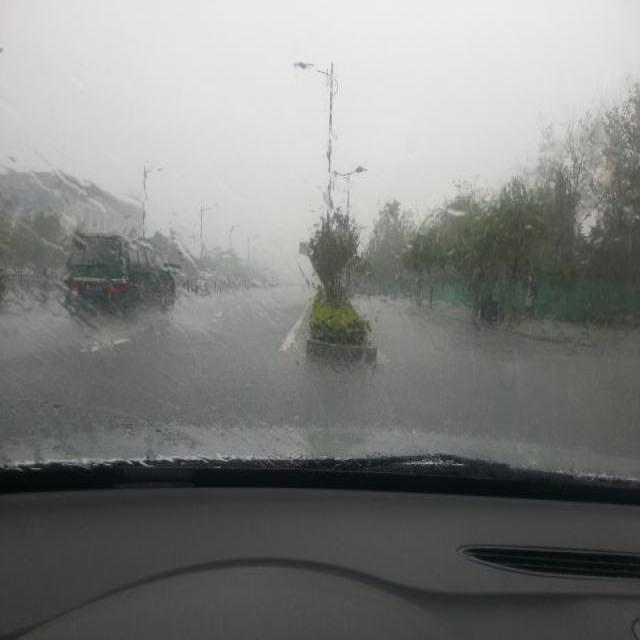car: (59, 232, 178, 315)
